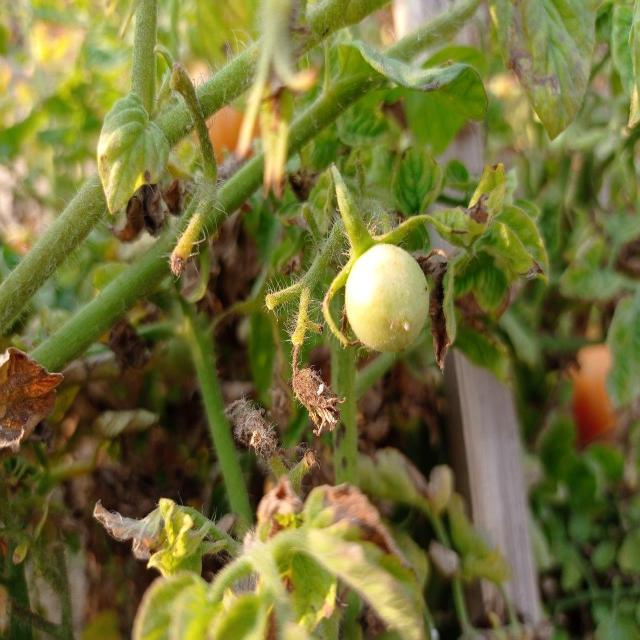Unripe: (343, 235, 428, 352)
